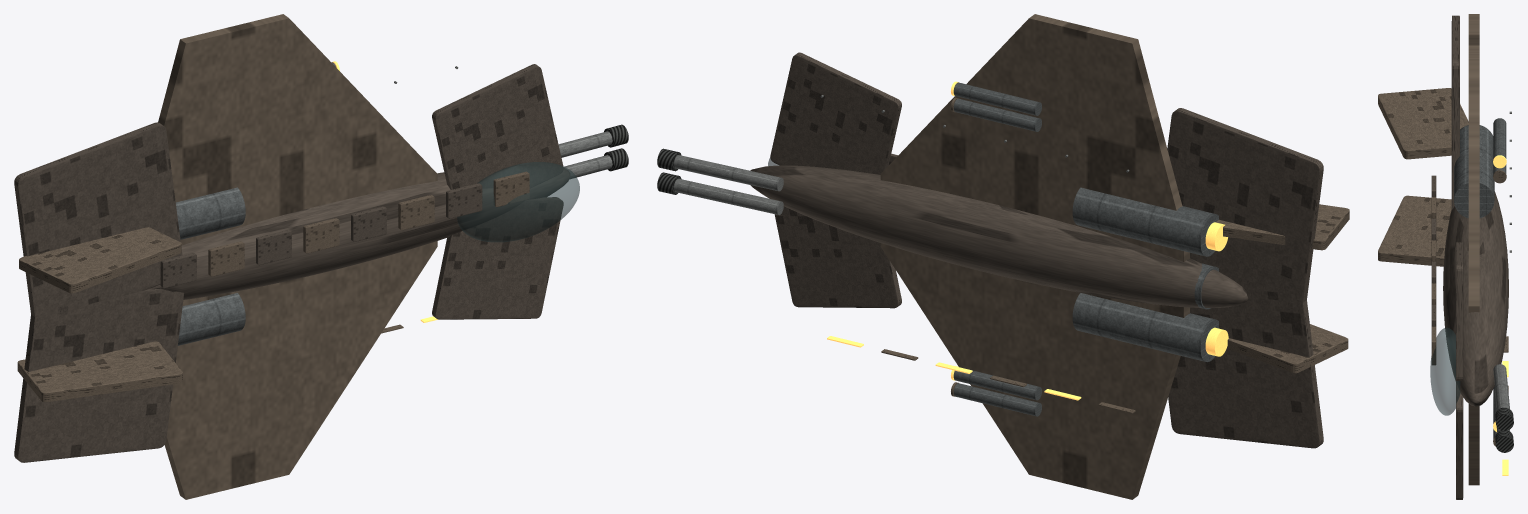
File: d-x04-dominion-aero-lod0.glb
3 renders of one model, left to right at view 1: azimuth 30°, elevation 25°; view 2: azimuth 150°, elevation 25°; view 3: azimuth 270°, elevation 25°, orthographic. The views are drawn at different scales.
Parts seen in each view (by area): view 1: combat_main_wing, combat_tailplane_1, combat_tailplane_-1, combat_fuselage, canard_-1, canard_1, combat_canopy, combat_fin_-1, combat_fin_1, combat_engine_2, combat_engine_0, airframe_panel_1 (+8 smaller); view 2: combat_main_wing, combat_fuselage, combat_tailplane_1, combat_tailplane_-1, canard_1, canard_-1, combat_engine_2, combat_engine_0, combat_fin_-1, combat_fin_1, combat_gun_barrel_0, combat_gun_barrel_1 (+4 smaller); view 3: combat_fuselage, combat_main_wing, combat_fin_1, combat_fin_-1, combat_engine_2, combat_canopy, combat_tailplane_1, canard_1, canard_-1, combat_gun_barrel_1, combat_1_tube_2, combat_gun_muzzle_1 (+2 smaller).
Boxes of the visible parts, <box> form: combat_main_wing: <box>158,14,437,499</box>; combat_tailplane_1: <box>14,122,182,321</box>; combat_tailplane_-1: <box>14,288,183,462</box>; combat_fuselage: <box>147,168,569,299</box>; canard_-1: <box>432,197,563,319</box>; canard_1: <box>432,64,563,189</box>; combat_canopy: <box>457,162,579,242</box>; combat_fin_-1: <box>17,341,182,402</box>; combat_fin_1: <box>19,227,181,293</box>; combat_engine_2: <box>176,187,245,239</box>; combat_engine_0: <box>178,293,245,345</box>; airframe_panel_1: <box>208,241,244,276</box>; combat_main_wing: <box>880,14,1189,499</box>; combat_fuselage: <box>750,165,1248,307</box>; combat_tailplane_1: <box>1167,108,1323,302</box>; combat_tailplane_-1: <box>1168,289,1323,448</box>; canard_1: <box>770,52,901,174</box>; canard_-1: <box>774,206,901,308</box>; combat_engine_2: <box>1072,187,1218,256</box>; combat_engine_0: <box>1072,293,1218,362</box>; combat_fin_-1: <box>1227,324,1348,373</box>; combat_fin_1: <box>1216,204,1349,250</box>; combat_gun_barrel_0: <box>674,178,783,215</box>; combat_gun_barrel_1: <box>674,155,783,191</box>; combat_fuselage: <box>1443,191,1508,406</box>; combat_main_wing: <box>1468,14,1479,485</box>; combat_fin_1: <box>1378,88,1468,159</box>; combat_fin_-1: <box>1378,195,1451,266</box>; combat_engine_2: <box>1454,125,1494,218</box>; combat_canopy: <box>1430,327,1460,415</box>; combat_tailplane_1: <box>1451,15,1459,209</box>; canard_1: <box>1456,242,1463,380</box>; canard_-1: <box>1456,383,1463,499</box>; combat_gun_barrel_1: <box>1493,364,1509,409</box>; combat_1_tube_2: <box>1493,118,1506,158</box>; combat_gun_muzzle_1: <box>1495,407,1513,430</box>.
Size of what is drawn, in the model's own units: 16.87 by 11.6 by 3.37.
Materials: 7 (7 with a texture image).
